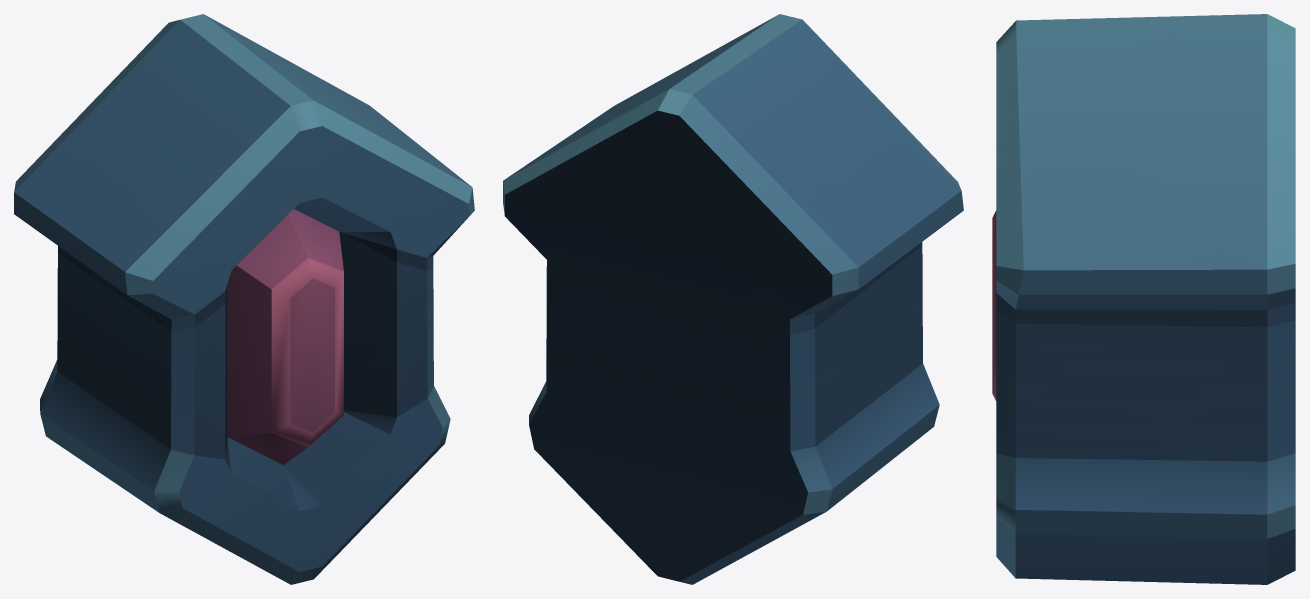
File: ornament_4.fbx
The picture shows the model from 3 angles, left to right: view 1: azimuth 30°, elevation 25°; view 2: azimuth 150°, elevation 25°; view 3: azimuth 270°, elevation 25°; orthographic projection. The views are drawn at different scales.
Parts seen in each view (by area): view 1: ornament_4; view 2: ornament_4; view 3: ornament_4.
Boxes of the visible parts, box(x1,y1,x2,y2) form: ornament_4: box(14, 14, 474, 584); ornament_4: box(503, 14, 963, 584); ornament_4: box(992, 14, 1295, 584).
Bounding box in the file's own units: 137 × 181 × 88.89.
